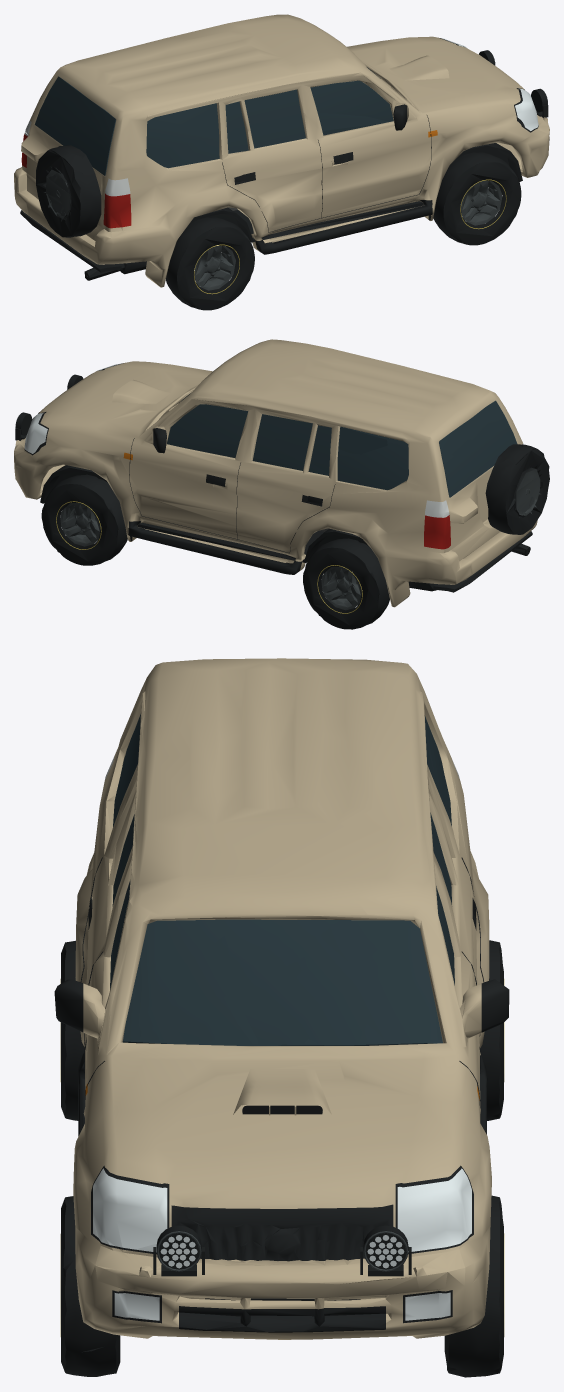
File: prado-j90.glb
3 renders of one model, top to bottom at view 1: azimuth 30°, elevation 25°; view 2: azimuth 150°, elevation 25°; view 3: azimuth 270°, elevation 25°, orthographic. The views are drawn at different scales.
Visible parts, largest first — view 1: body, glass, wheel_rear_right, wheel_front_right, spare, floor, hood_scoop, door-panel-seams, driving_light_right; view 2: body, glass, wheel_rear_left, wheel_front_left, spare, floor, hood_scoop, door-panel-seams, driving_light_left; view 3: body, glass, wheel_front_right, wheel_front_left, hood_scoop, wheel_rear_right, wheel_rear_left, driving_light_left, driving_light_right.
Boxes of the visible parts, x1,y1,x2,y2 form: body: [14, 14, 549, 287]; glass: [34, 67, 393, 175]; wheel_rear_right: [166, 217, 254, 310]; wheel_front_right: [433, 152, 521, 245]; spare: [36, 145, 101, 237]; floor: [20, 143, 522, 280]; hood_scoop: [389, 55, 449, 80]; door-panel-seams: [222, 115, 431, 232]; driving_light_right: [531, 88, 548, 117]; body: [14, 339, 537, 607]; glass: [167, 393, 517, 497]; wheel_rear_left: [303, 538, 389, 629]; wheel_front_left: [41, 474, 127, 565]; spare: [485, 444, 549, 534]; floor: [40, 465, 532, 592]; hood_scoop: [112, 380, 170, 404]; door-panel-seams: [129, 438, 335, 553]; driving_light_left: [15, 412, 32, 440]; body: [54, 658, 509, 1339]; glass: [110, 714, 454, 1045]; wheel_front_right: [61, 1196, 120, 1376]; wheel_front_left: [444, 1195, 503, 1377]; hood_scoop: [233, 1069, 331, 1115]; wheel_rear_right: [61, 940, 84, 1120]; wheel_rear_left: [480, 940, 503, 1120]; driving_light_left: [360, 1225, 411, 1276]; driving_light_right: [153, 1225, 204, 1276].
Size of the model in its own units: 5.03 by 2.04 by 2.11.
